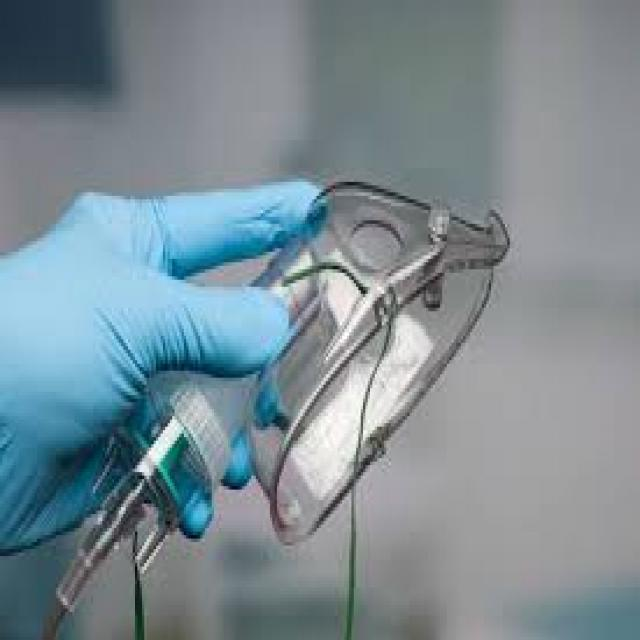oxygen_mask: (116, 194, 516, 553)
